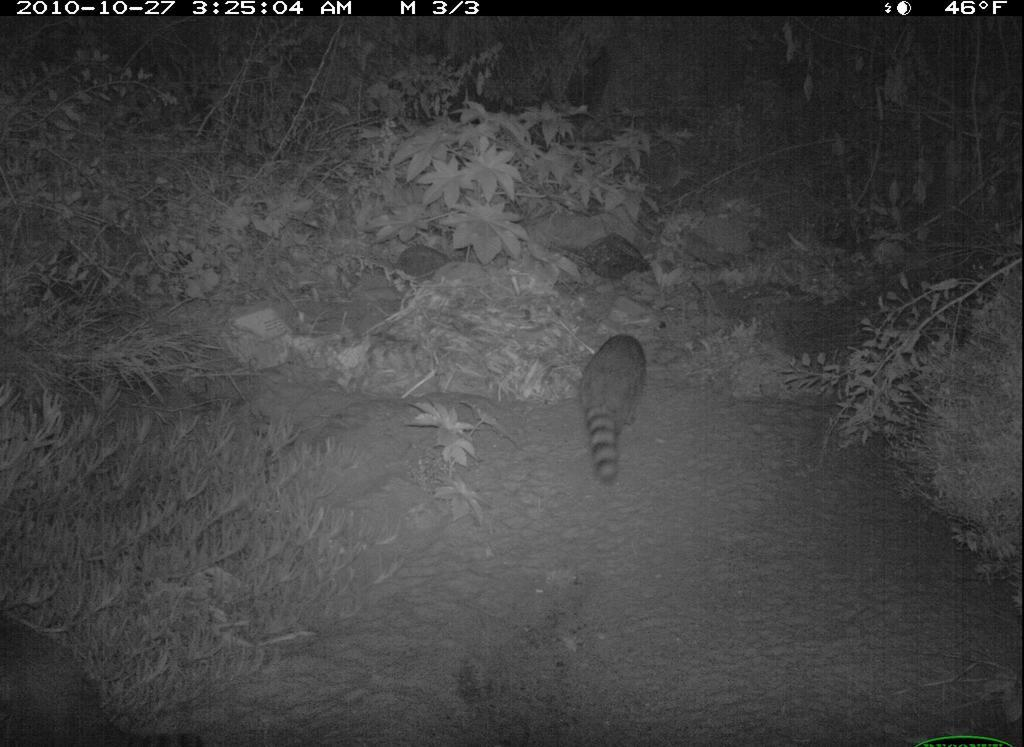raccoon: (573, 328, 655, 491)
